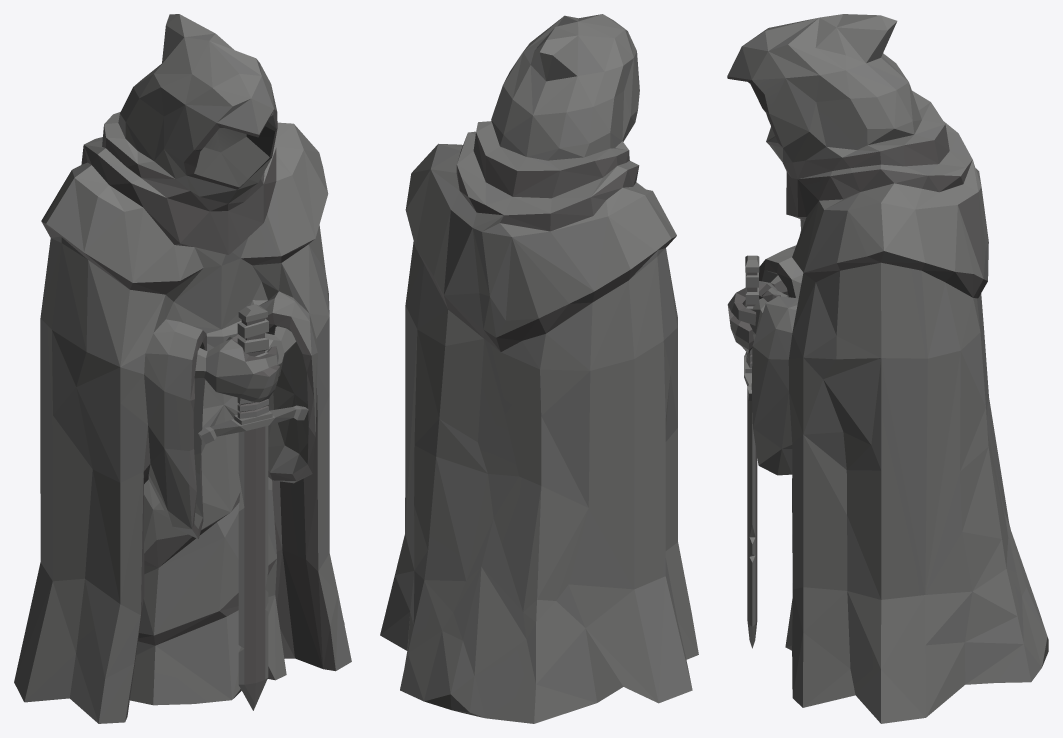
Rendered from SM_Env_Statue_02.glb.
3 renders of one model, left to right at view 1: azimuth 30°, elevation 25°; view 2: azimuth 150°, elevation 25°; view 3: azimuth 270°, elevation 25°, orthographic. The views are drawn at different scales.
Parts seen in each view (by area): view 1: SM_Env_Statue_02; view 2: SM_Env_Statue_02; view 3: SM_Env_Statue_02.
Boxes of the visible parts, x1=… form: SM_Env_Statue_02: x1=14, y1=14, x2=351, y2=723; SM_Env_Statue_02: x1=380, y1=14, x2=698, y2=723; SM_Env_Statue_02: x1=727, y1=14, x2=1048, y2=723.
Size of the model in its own units: 0.0154 by 0.0301 by 0.0139.
Materials: 1 (1 with a texture image).
